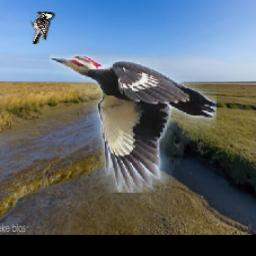Woodpecker: (50, 54, 217, 193), (28, 12, 55, 45)
